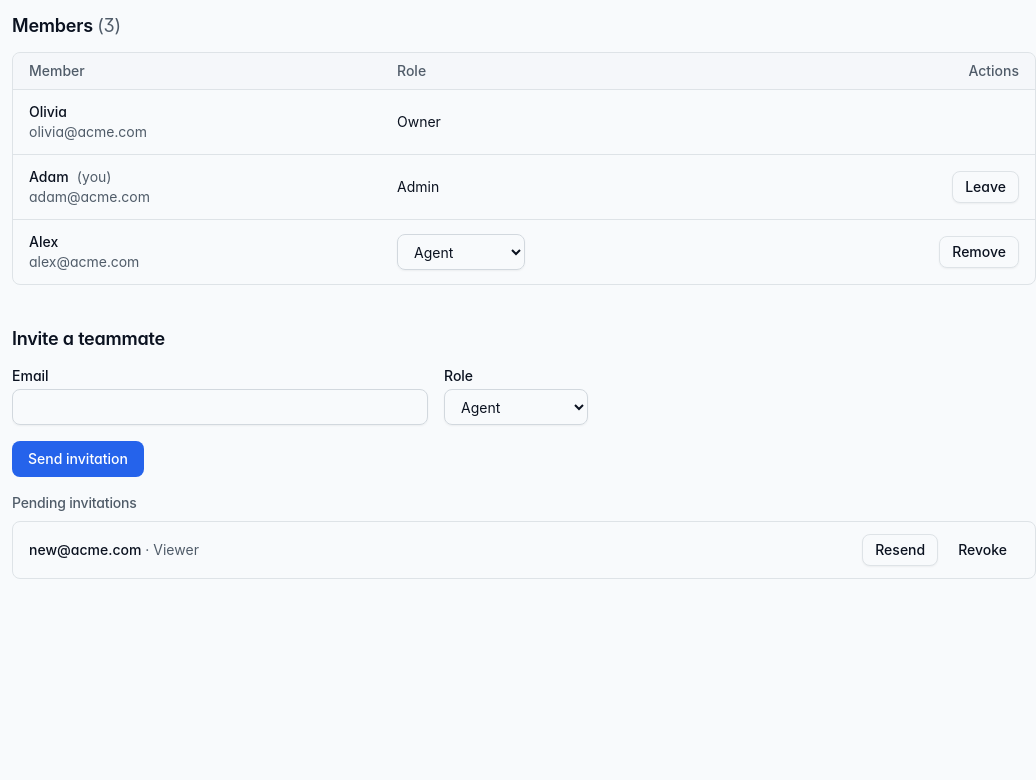
Test: MembersPanel invitations › lists pending invitations and can revoke one
Expected: the text "new@acme.com" is shown, [29,541,141,558]
What coordinates should you click on to do the following:
click the button with aria-label "revoke invitation for new@acme.com"
I would click on:
 (983, 550)
Its box is [946,534,1019,566].
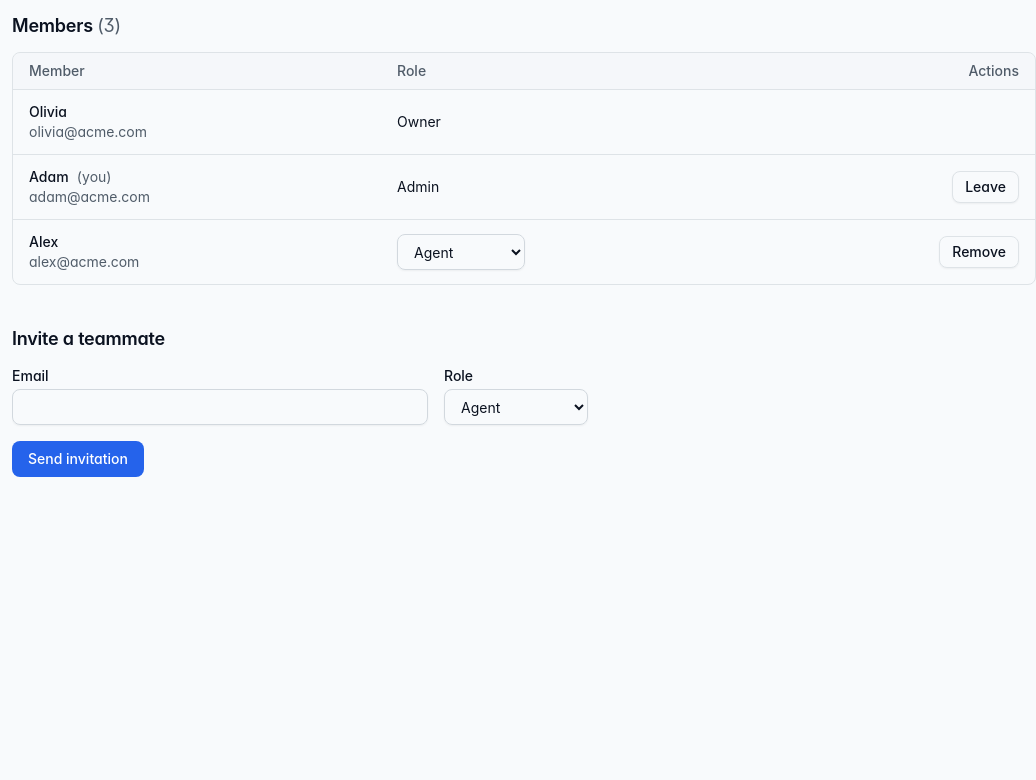
Expected: the text "new@acme.com" is gone
